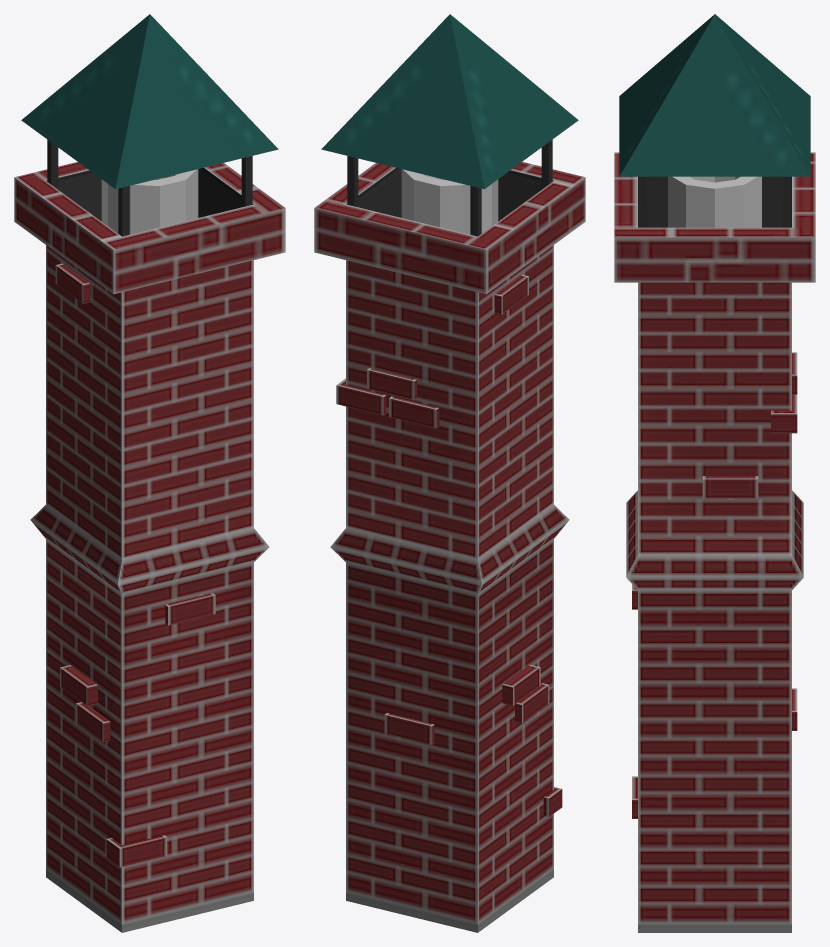
Rendered from Chimney 3.obj.
3 views of the same model, side by side, from view 1: azimuth 30°, elevation 25°; view 2: azimuth 150°, elevation 25°; view 3: azimuth 270°, elevation 25° (orthographic).
Visible parts, largest first — view 1: Chimney_2; view 2: Chimney_2; view 3: Chimney_2.
Boxes of the visible parts, left/top/right/bottom form: Chimney_2: left=14, top=14, right=285, bottom=932; Chimney_2: left=314, top=14, right=585, bottom=932; Chimney_2: left=614, top=14, right=815, bottom=932.
Bounding box in the file's own units: 196 × 951 × 196.
Materials: 1 (1 with a texture image).
